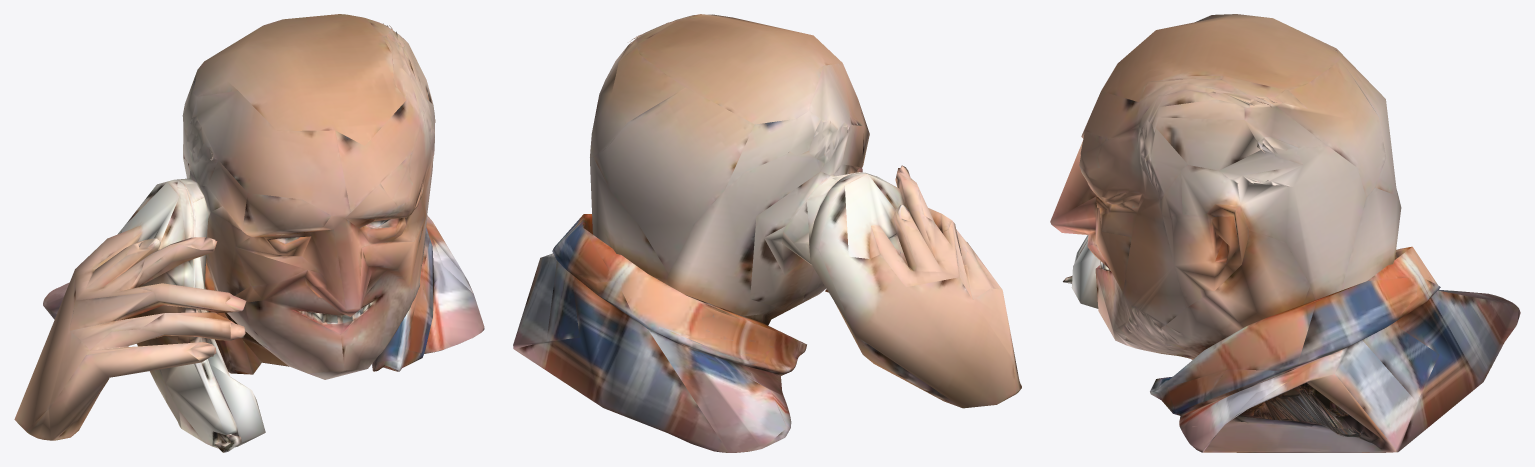
Rendered from harold.glb.
The picture shows the model from 3 angles, left to right: view 1: azimuth 30°, elevation 25°; view 2: azimuth 150°, elevation 25°; view 3: azimuth 270°, elevation 25°; orthographic projection. The views are drawn at different scales.
Visible parts, largest first — view 1: node_0; view 2: node_0; view 3: node_0.
Part boxes in pixels (x1,y1,x2,y2): node_0: [14, 14, 484, 452]; node_0: [513, 14, 1021, 452]; node_0: [1050, 14, 1520, 452].
Size of the model in its own units: 0.9444 by 0.6375 by 0.8052.
Materials: 1 (1 with a texture image).
